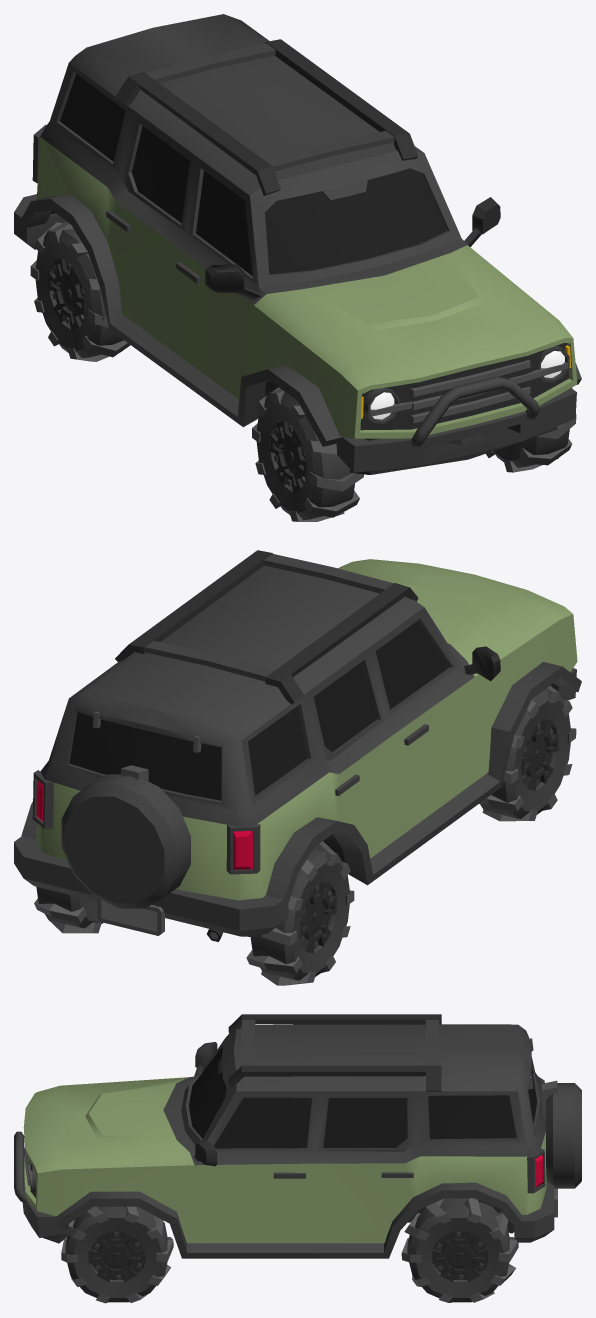
Rendered from tronco.glb.
3 views of the same model, one above another, from view 1: azimuth 30°, elevation 25°; view 2: azimuth 150°, elevation 25°; view 3: azimuth 270°, elevation 25° (orthographic). The views are drawn at different scales.
Visible parts, largest first — view 1: tronco, wheels.004, wheels.003, wheels.001; view 2: tronco, wheels.003, wheels.004, wheels.002; view 3: tronco, wheels.002, wheels.001.
Boxes of the visible parts, <box> form: tronco: <box>14,14,581,474</box>; wheels.004: <box>252,387,363,521</box>; wheels.003: <box>30,221,130,361</box>; wheels.001: <box>486,387,576,472</box>; tronco: <box>14,550,581,941</box>; wheels.003: <box>244,841,354,985</box>; wheels.004: <box>479,686,576,821</box>; wheels.002: <box>34,886,103,933</box>; tronco: <box>14,1014,581,1258</box>; wheels.002: <box>401,1198,518,1302</box>; wheels.001: <box>61,1206,173,1303</box>.
Size of the model in its own units: 2.83 by 2.67 by 6.24.
Materials: 3 (3 with a texture image).
